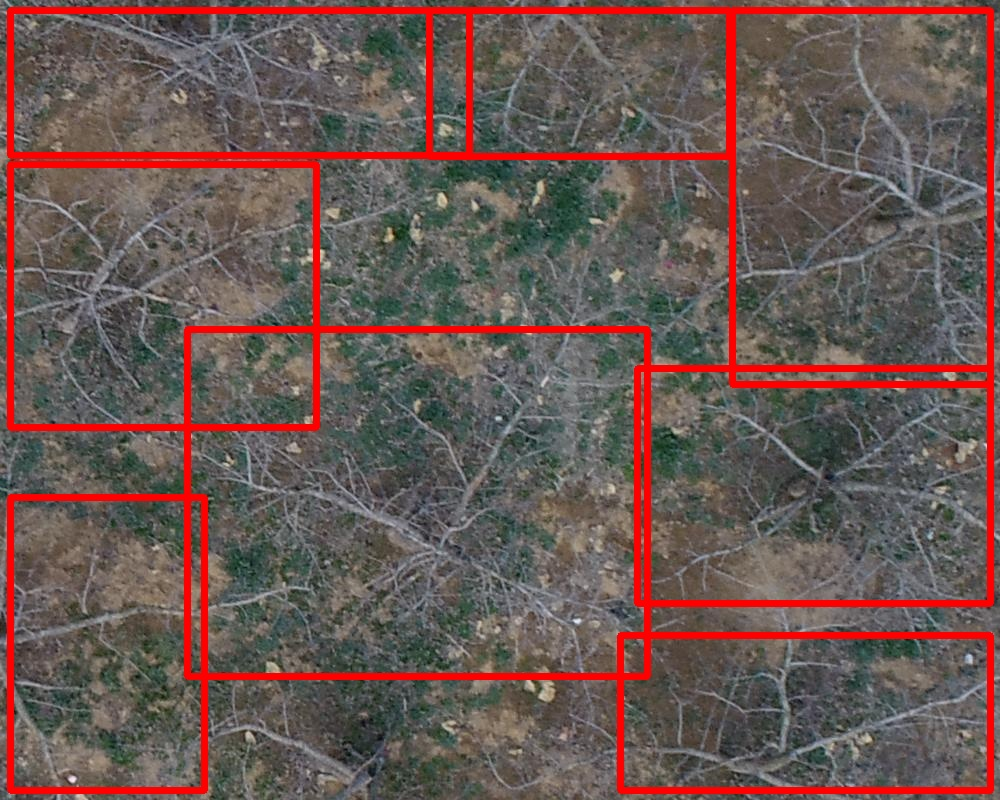apple: (187, 329, 647, 676), (732, 10, 990, 384), (637, 368, 990, 603), (10, 164, 316, 427), (10, 10, 469, 155), (620, 635, 990, 790), (10, 497, 204, 790), (429, 10, 729, 156)
